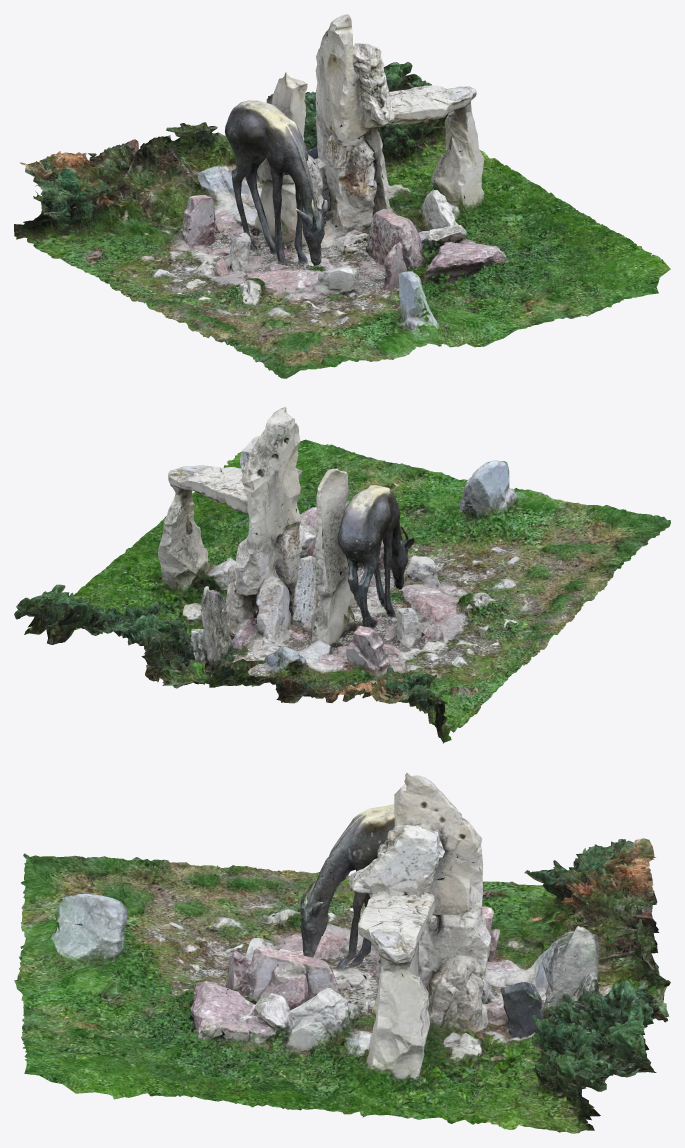
The model's file is chamois_statue.glb.
3 views of the same model, one above another, from view 1: azimuth 30°, elevation 25°; view 2: azimuth 150°, elevation 25°; view 3: azimuth 270°, elevation 25° (orthographic). The views are drawn at different scales.
Visible parts, largest first — view 1: Object_2; view 2: Object_2; view 3: Object_2.
Part boxes in pixels (x1,y1,x2,y2): Object_2: (14, 14, 670, 378); Object_2: (14, 407, 670, 743); Object_2: (14, 773, 670, 1133).
Size of the model in its own units: 4277 by 2082 by 4816.
Materials: 1 (1 with a texture image).
